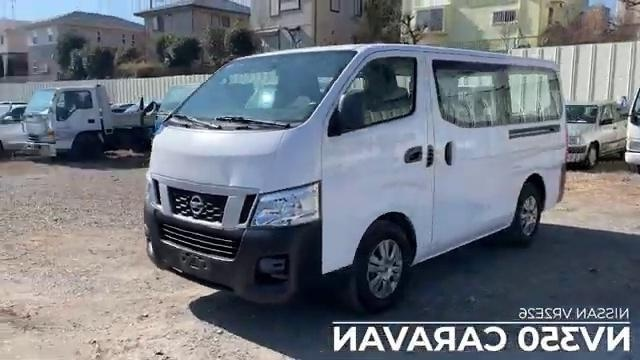van: (141, 39, 569, 308)
